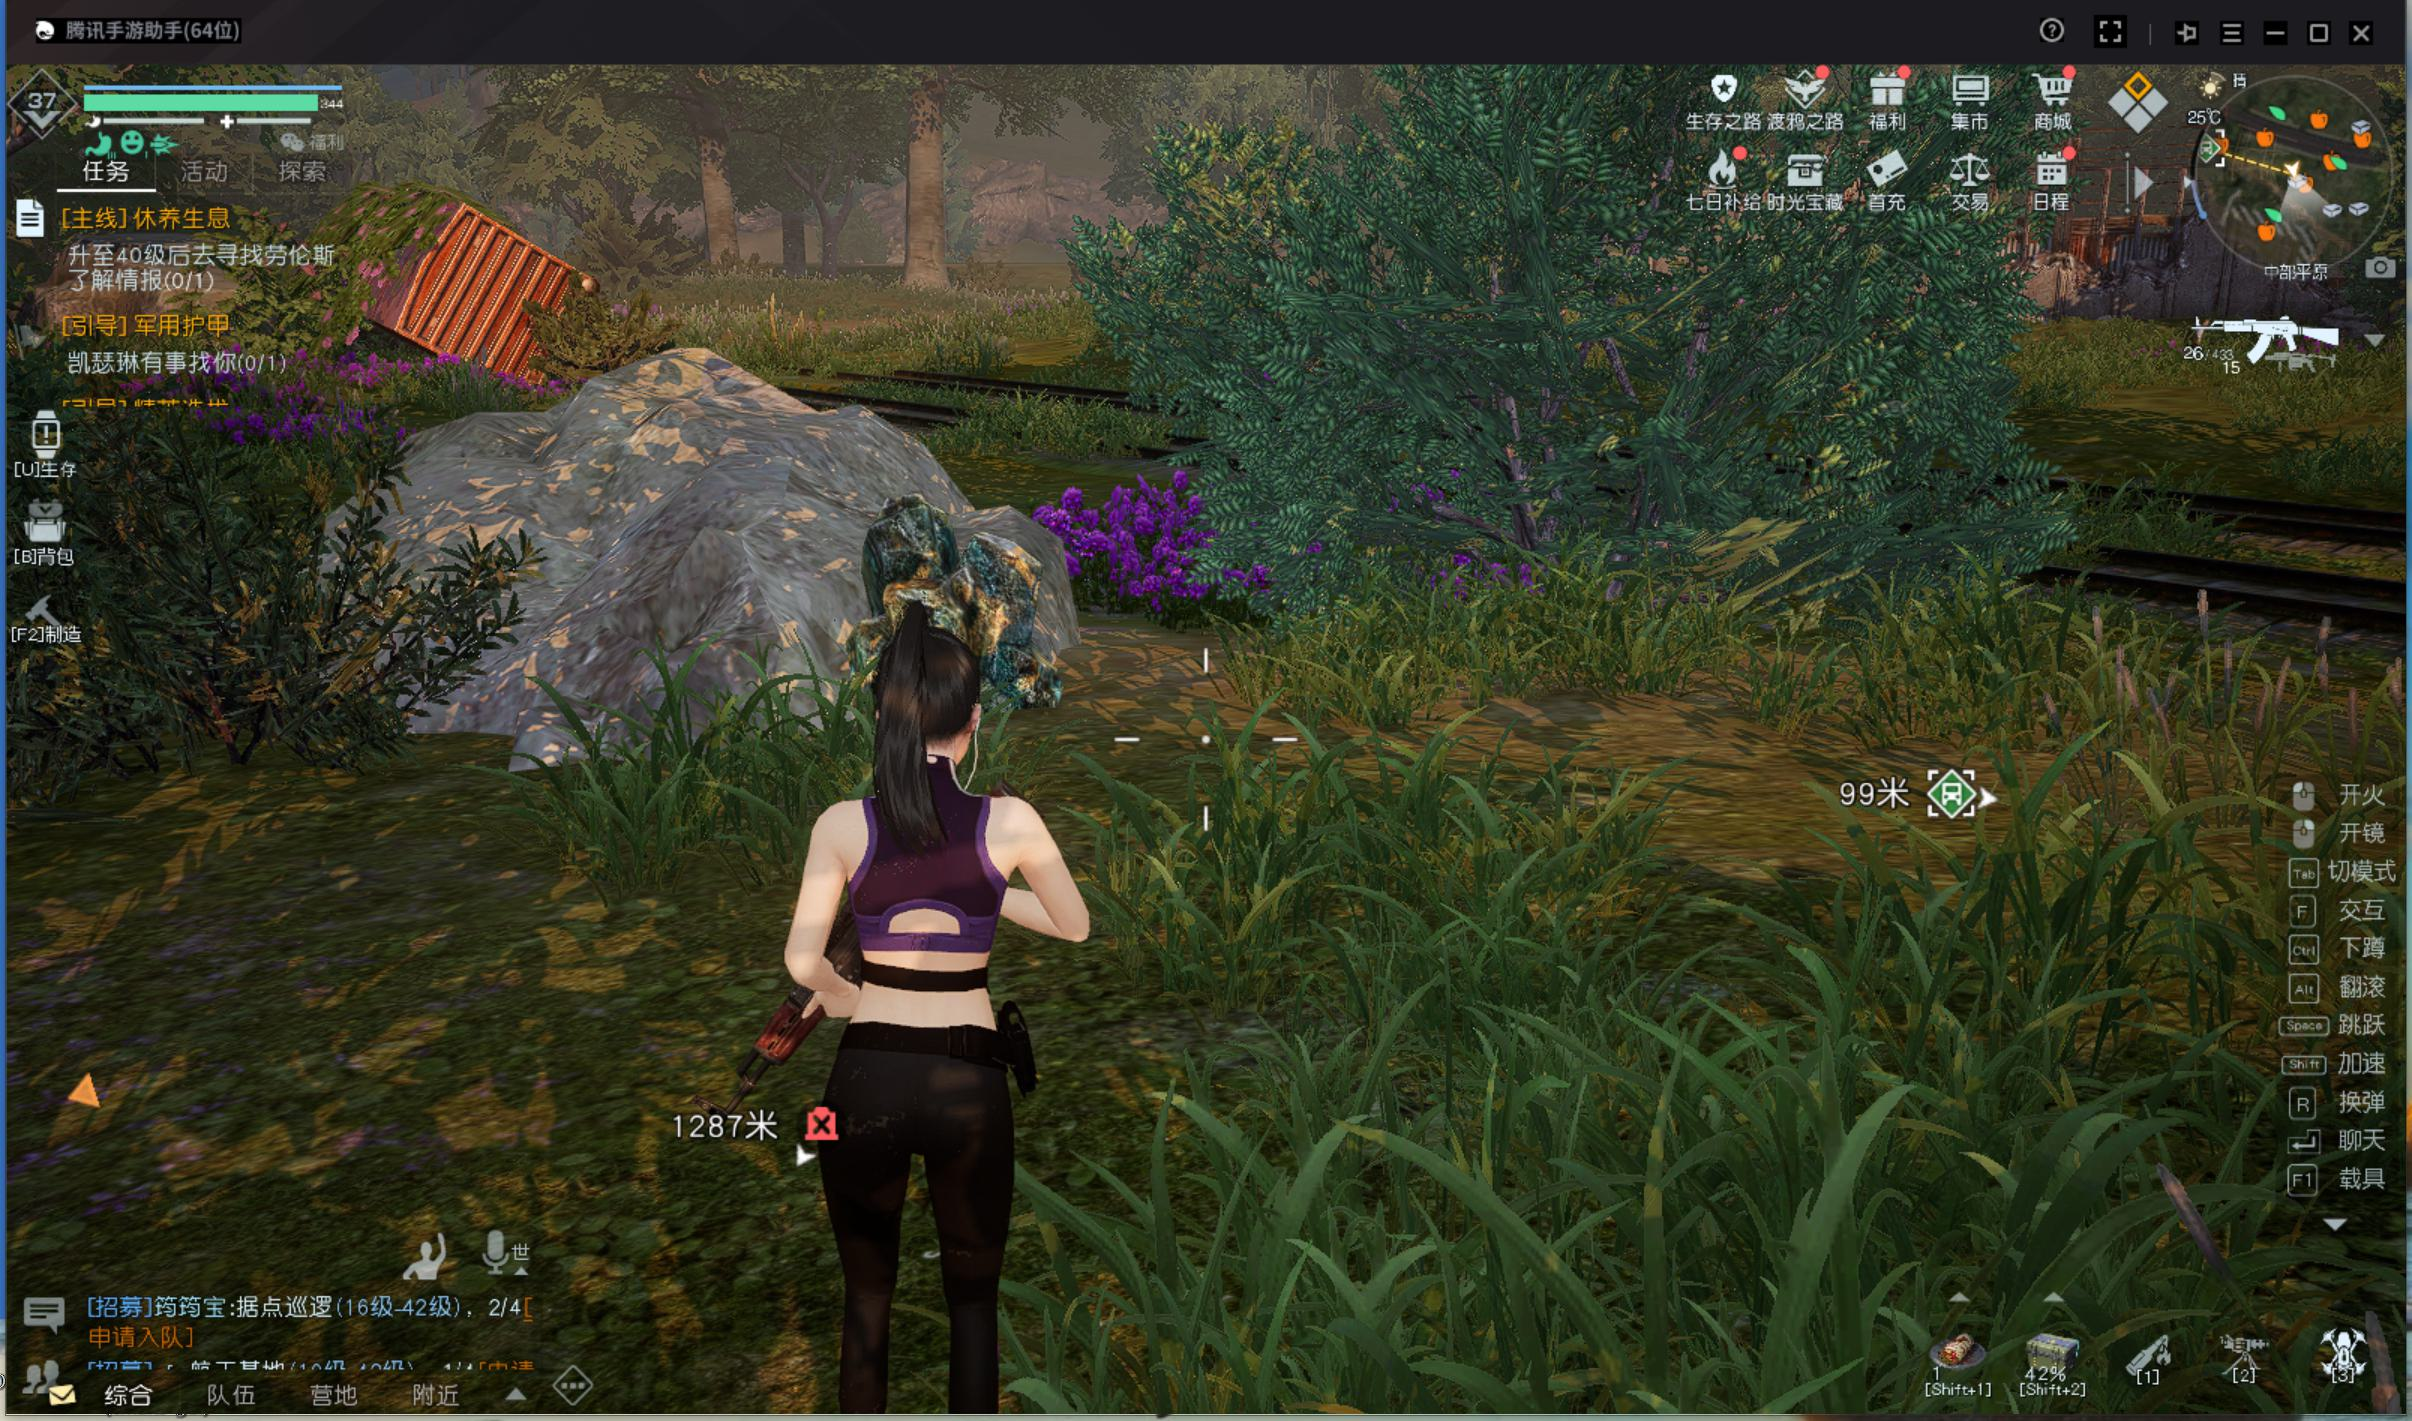stone: (827, 474, 1071, 624)
